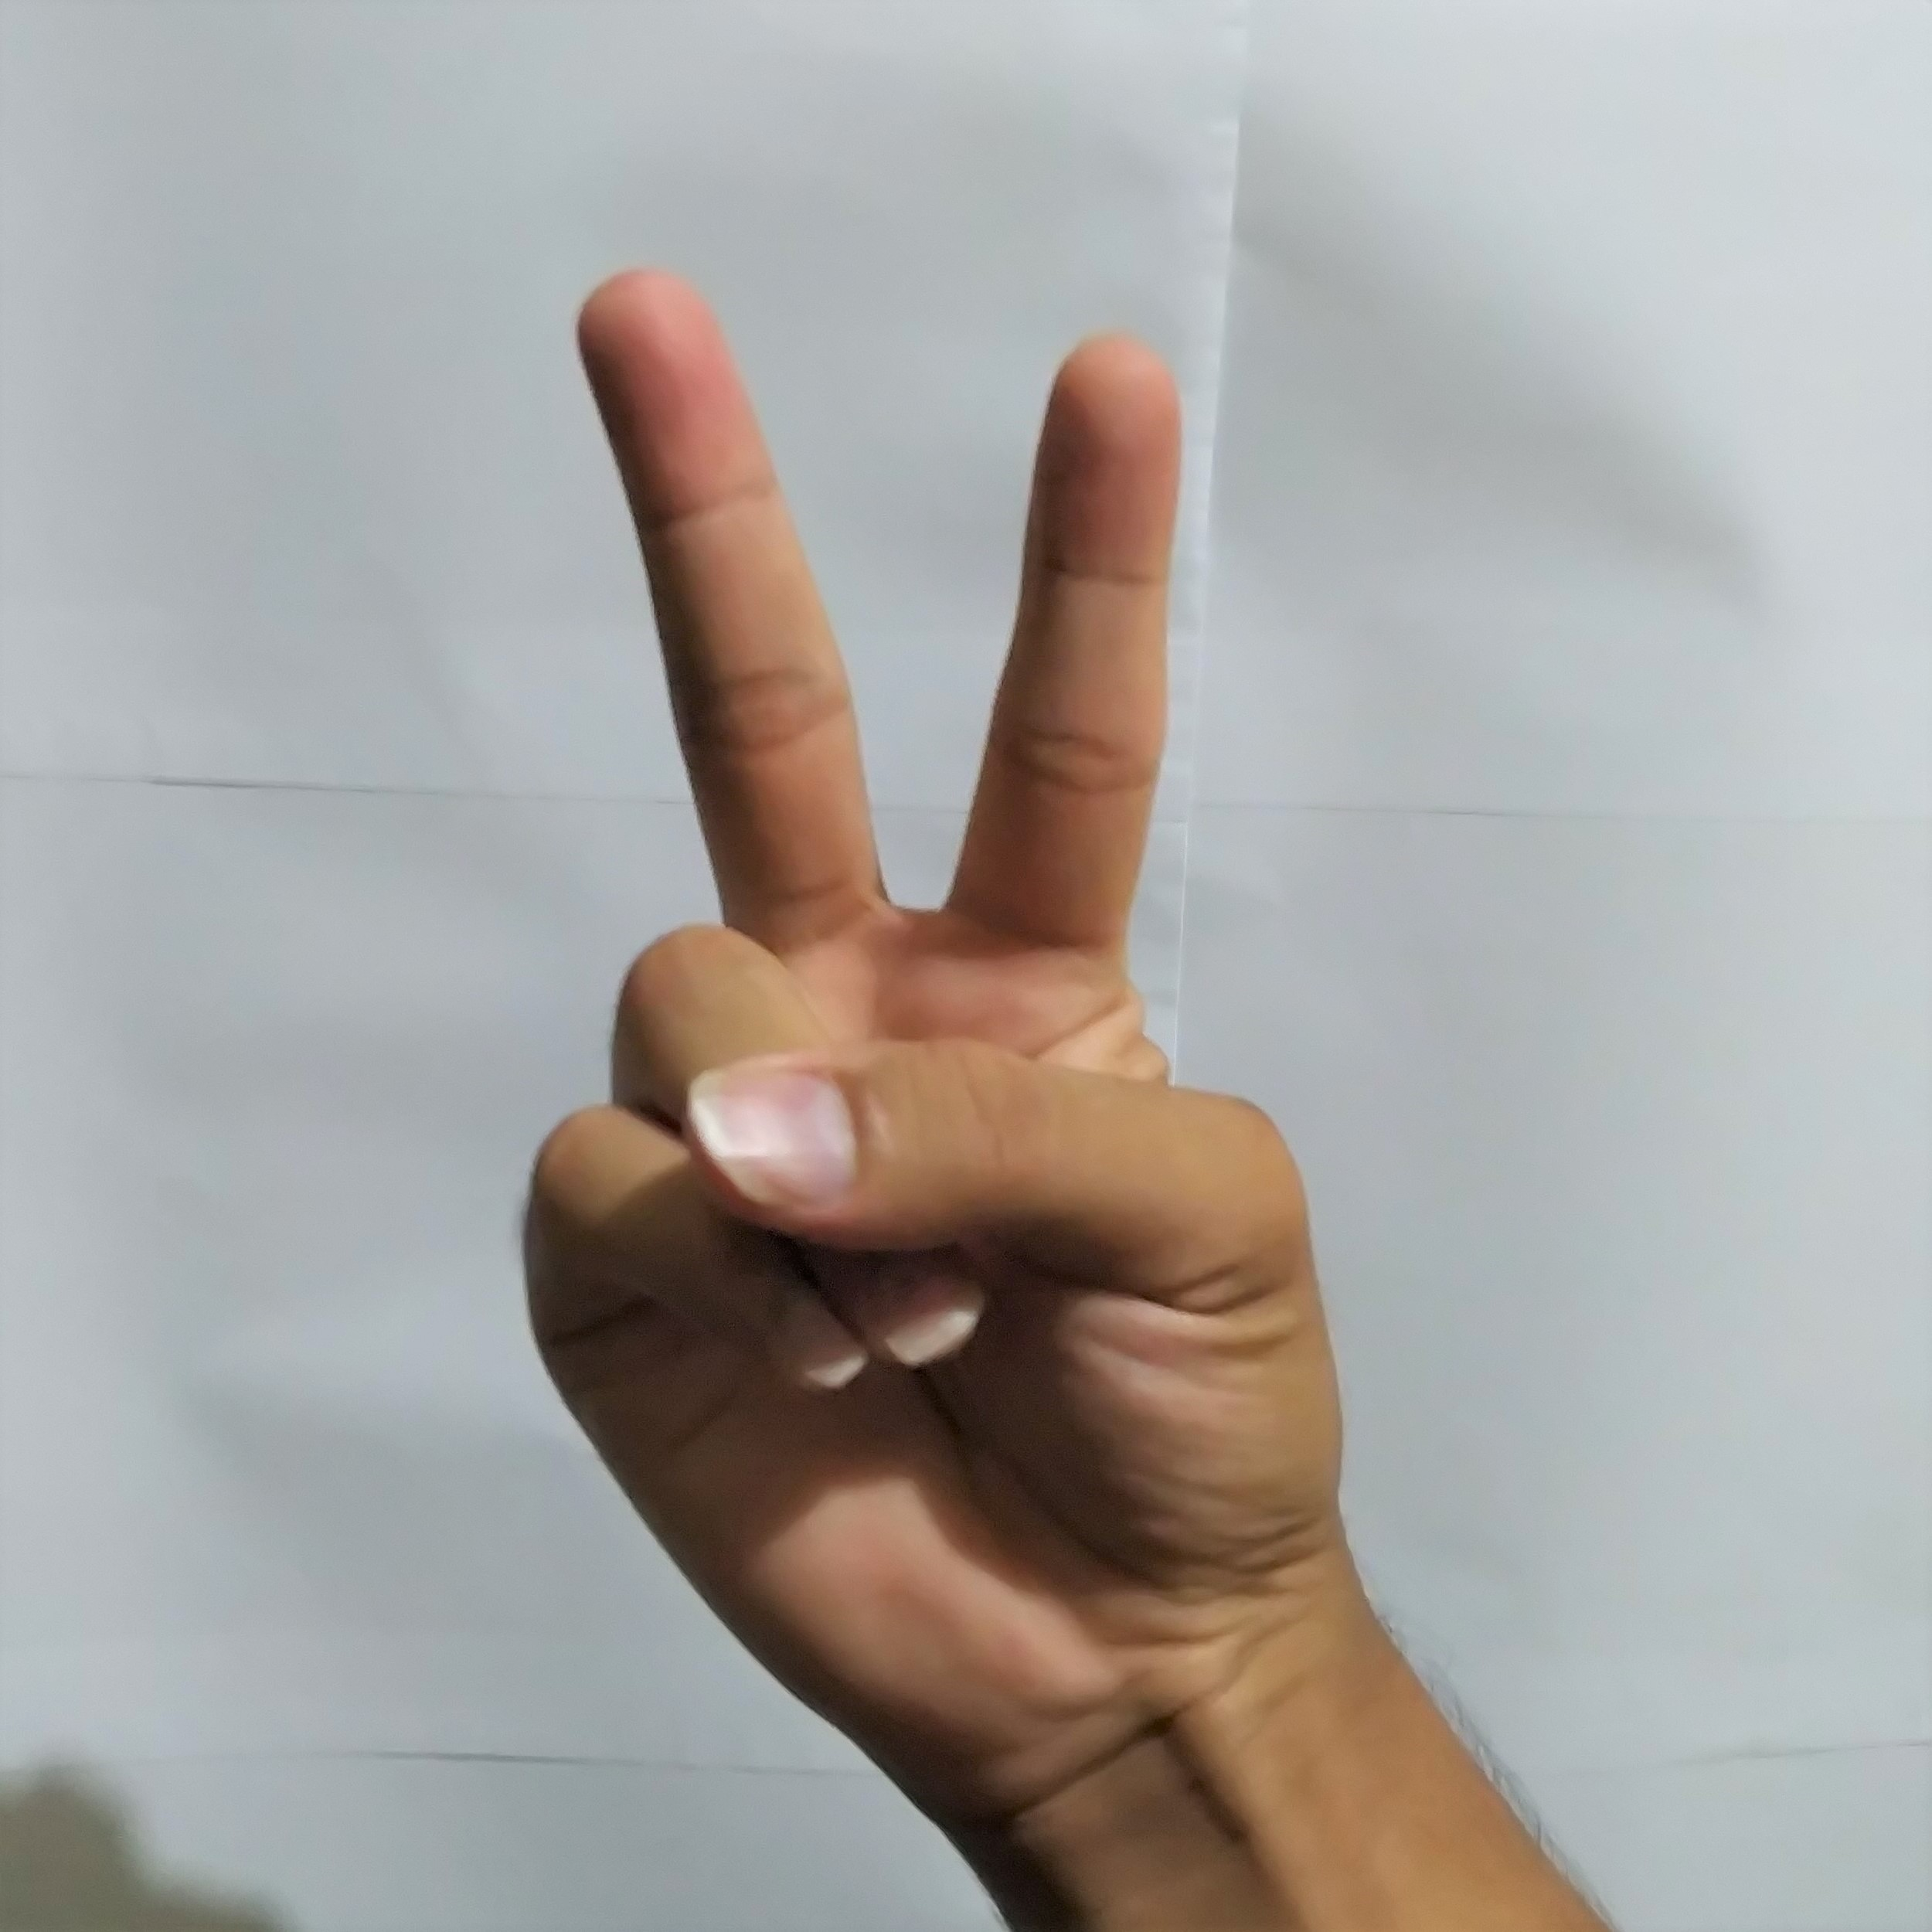V: (490, 235, 1453, 1739)
